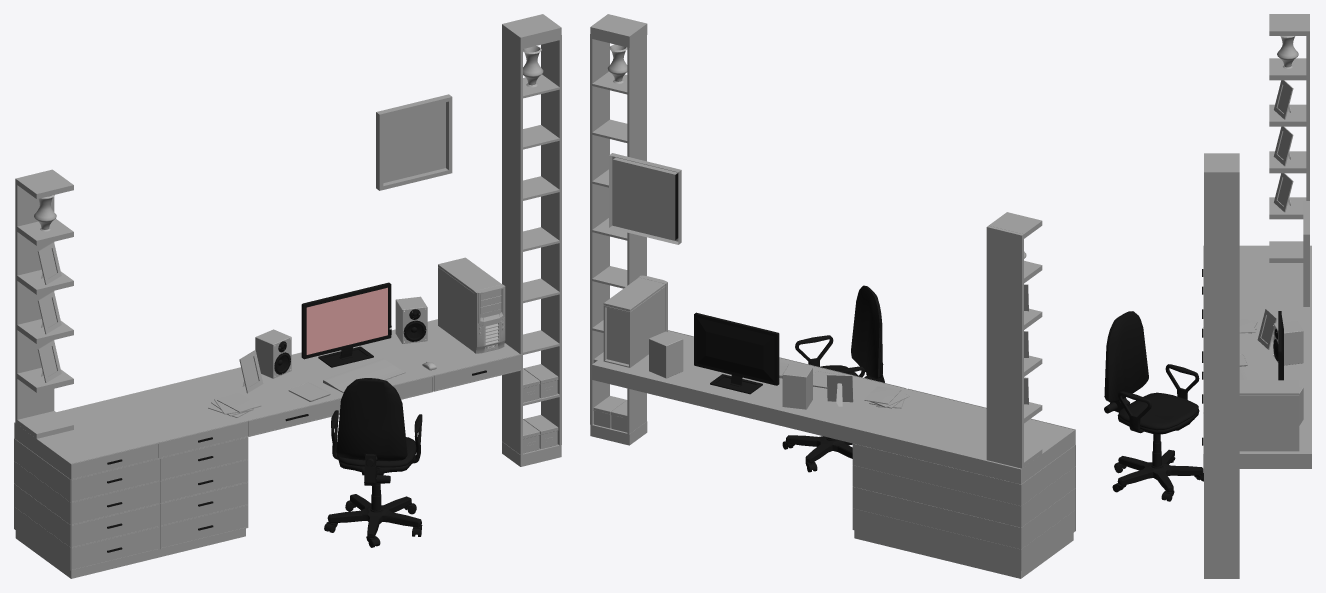
The model's file is apartament_computer_table.fbx.
3 renders of one model, left to right at view 1: azimuth 30°, elevation 25°; view 2: azimuth 150°, elevation 25°; view 3: azimuth 270°, elevation 25°, orthographic. The views are drawn at different scales.
Visible parts, largest first — view 1: table_computer; view 2: table_computer; view 3: table_computer.
Boxes of the visible parts, x1,y1,x2,y2 form: table_computer: (14, 14, 561, 578); table_computer: (590, 14, 1075, 578); table_computer: (1104, 14, 1311, 578).
Size of the model in its own units: 342 by 288 by 132.
